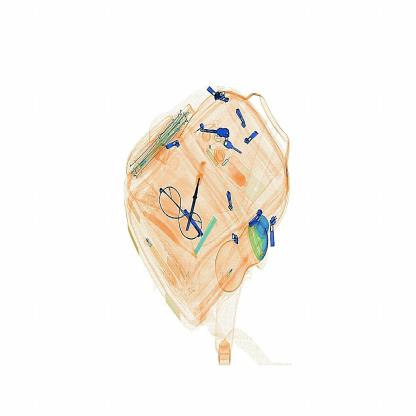gun: (180, 162, 212, 244)
